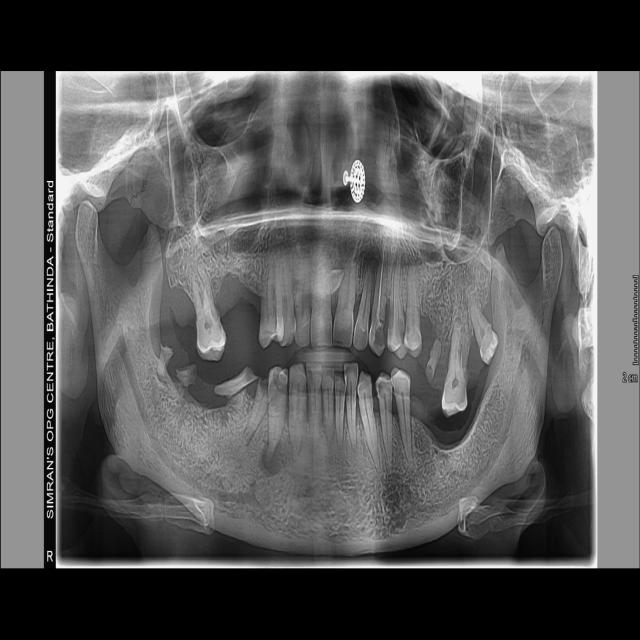Root Piece: (242, 379, 269, 445), (214, 367, 258, 397), (425, 337, 441, 383), (156, 344, 174, 381), (176, 364, 196, 388)
